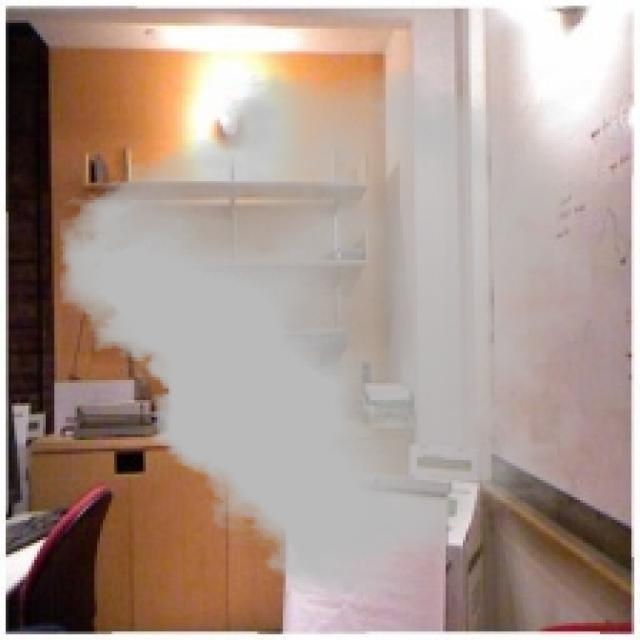Smoke: (59, 66, 592, 594)
